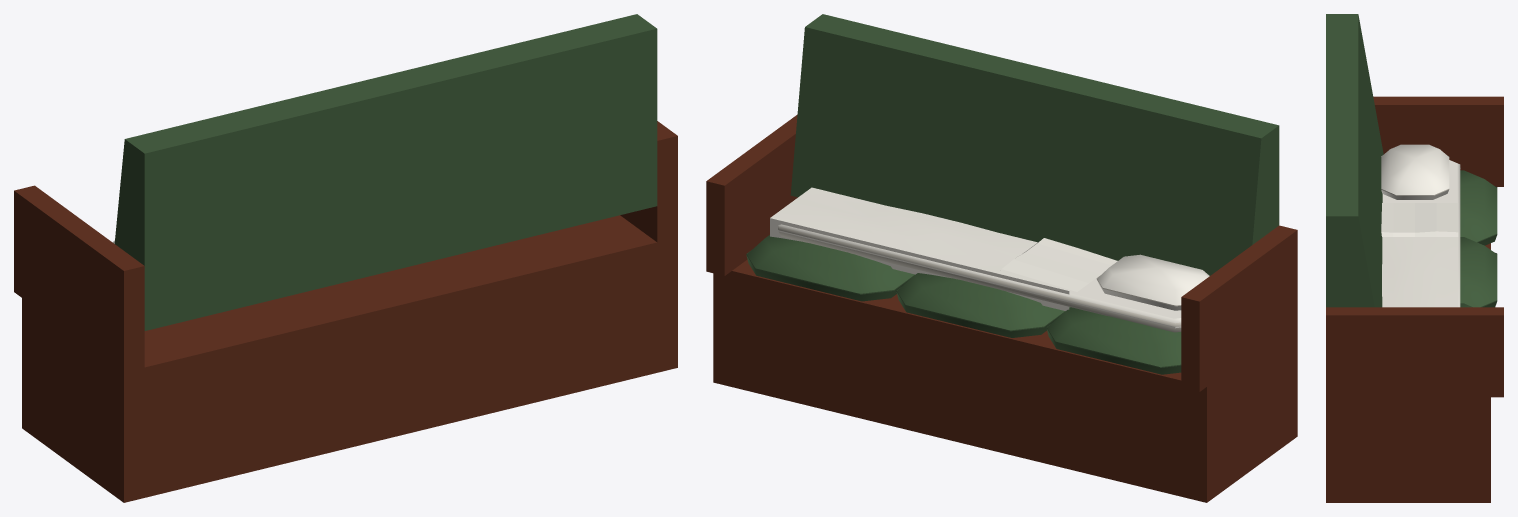
3 views of the same model, side by side, from view 1: azimuth 30°, elevation 25°; view 2: azimuth 150°, elevation 25°; view 3: azimuth 270°, elevation 25° (orthographic). The views are drawn at different scales.
Visible parts, largest first — view 1: parametric-variant-settee-1st-405743f6971deb688bfe; view 2: parametric-variant-settee-1st-405743f6971deb688bfe; view 3: parametric-variant-settee-1st-405743f6971deb688bfe.
Boxes of the visible parts, left/top/right/bottom form: parametric-variant-settee-1st-405743f6971deb688bfe: left=14, top=14, right=677, bottom=502; parametric-variant-settee-1st-405743f6971deb688bfe: left=706, top=14, right=1297, bottom=502; parametric-variant-settee-1st-405743f6971deb688bfe: left=1326, top=14, right=1503, bottom=502.
Bounding box in the file's own units: 1.6 × 0.95 × 0.55.
